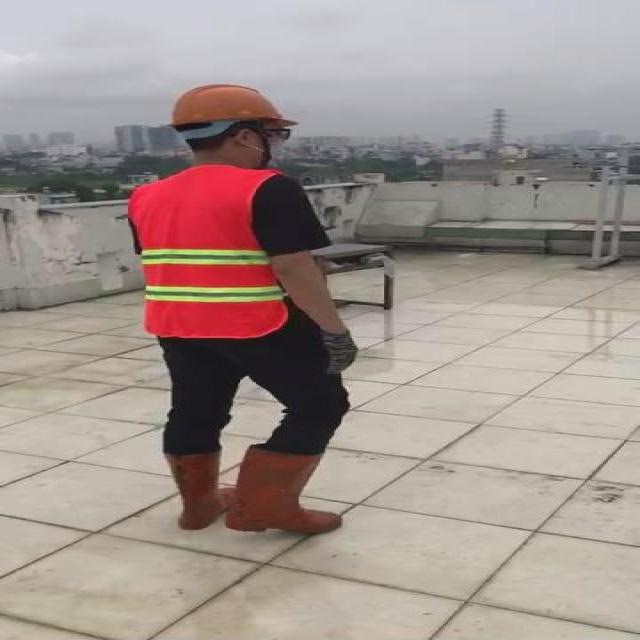boots: (224, 449, 343, 534), (160, 446, 226, 531)
hand_glove: (318, 330, 361, 374)
head_helmet: (164, 82, 306, 132)
person: (102, 76, 380, 553)
vest: (132, 166, 284, 338)
